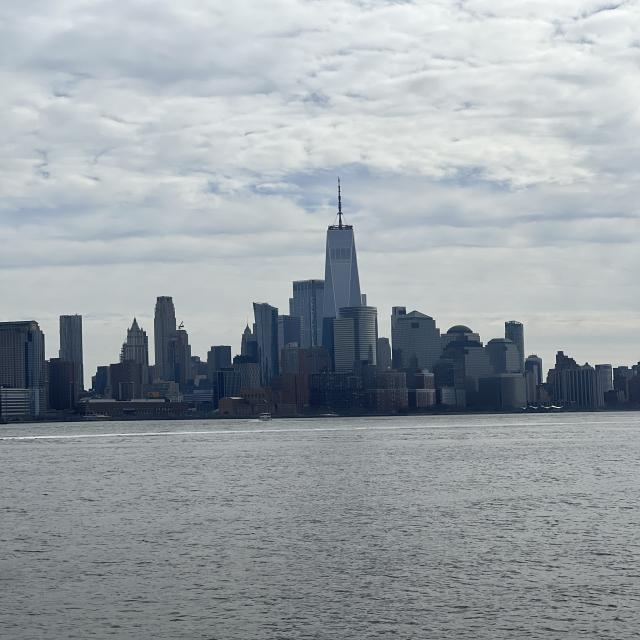WTC: (323, 177, 363, 310)
